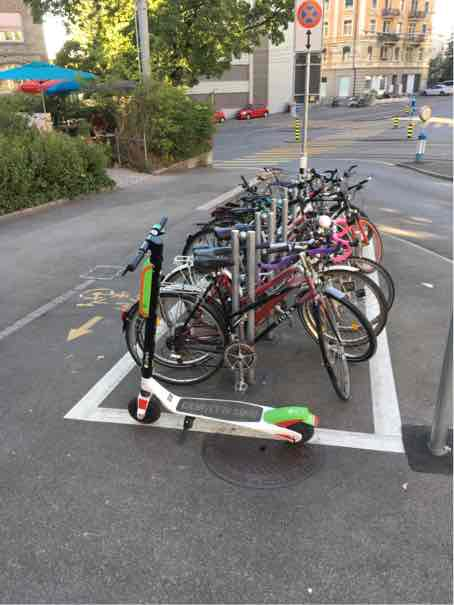scooter: (108, 203, 327, 460)
